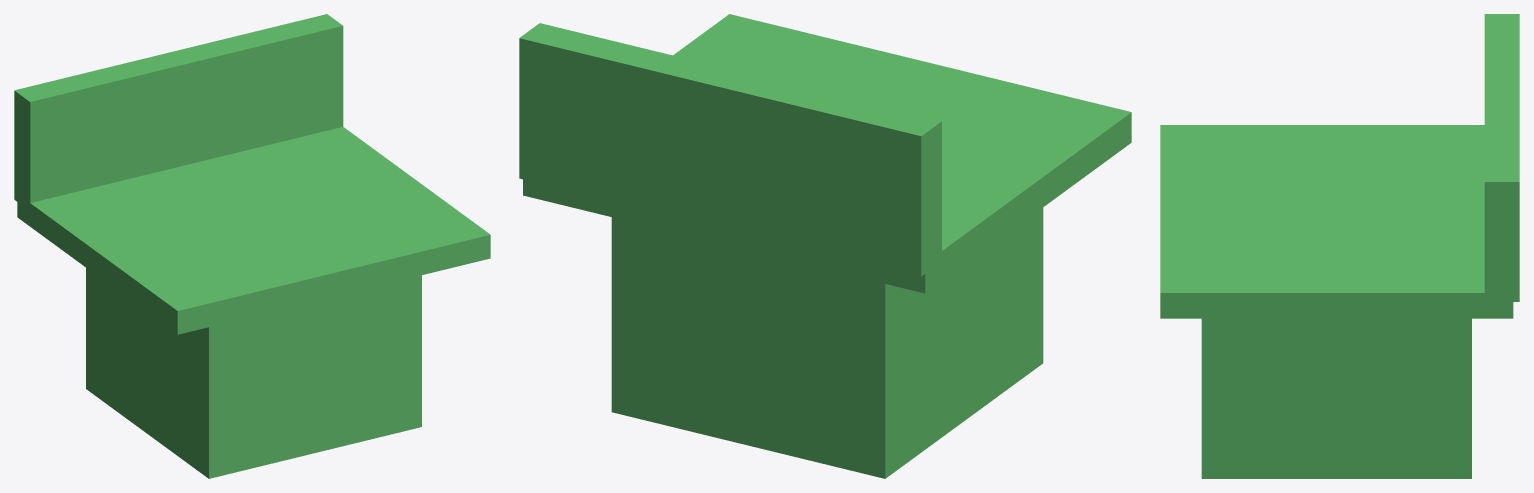
File: archer_platform_low_2m_collision.glb
The picture shows the model from 3 angles, left to right: view 1: azimuth 30°, elevation 25°; view 2: azimuth 150°, elevation 25°; view 3: azimuth 270°, elevation 25°; orthographic projection. The views are drawn at different scales.
Parts seen in each view (by area): view 1: archer_platform_low_2m-col-deck, archer_platform_low_2m-col-base, archer_platform_low_2m-col-front; view 2: archer_platform_low_2m-col-base, archer_platform_low_2m-col-front, archer_platform_low_2m-col-deck; view 3: archer_platform_low_2m-col-deck, archer_platform_low_2m-col-base, archer_platform_low_2m-col-front.
Part boxes in pixels (x1=…): archer_platform_low_2m-col-deck: x1=17, y1=127, x2=490, y2=334; archer_platform_low_2m-col-base: x1=86, y1=268, x2=421, y2=478; archer_platform_low_2m-col-front: x1=14, y1=14, x2=343, y2=202; archer_platform_low_2m-col-base: x1=611, y1=207, x2=1043, y2=478; archer_platform_low_2m-col-front: x1=519, y1=23, x2=941, y2=276; archer_platform_low_2m-col-deck: x1=523, y1=14, x2=1131, y2=293; archer_platform_low_2m-col-deck: x1=1160, y1=125, x2=1513, y2=318; archer_platform_low_2m-col-base: x1=1201, y1=318, x2=1471, y2=478; archer_platform_low_2m-col-front: x1=1484, y1=14, x2=1519, y2=301.
Size of the model in its own units: 3.6 by 3.24 by 3.26.
